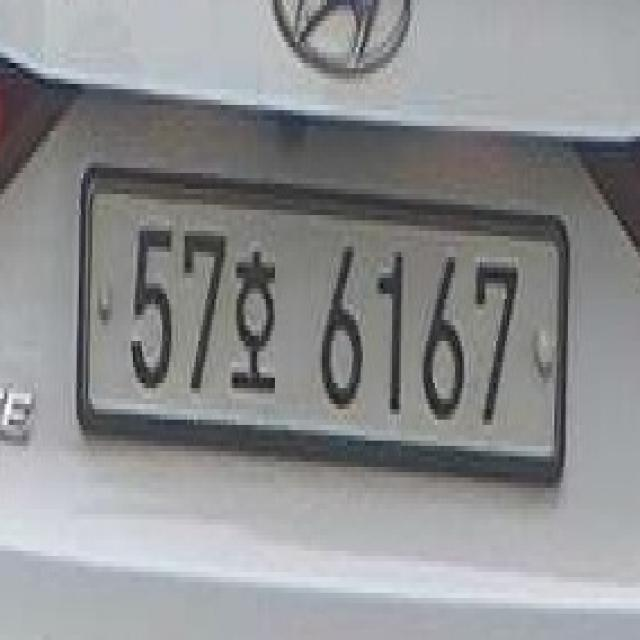1: (370, 242, 412, 411)
5: (126, 202, 173, 393)
6: (418, 241, 468, 419), (314, 244, 366, 413)
7: (179, 216, 228, 398), (472, 248, 523, 420)
ho: (232, 240, 280, 400)
license_plate: (74, 147, 582, 510)
